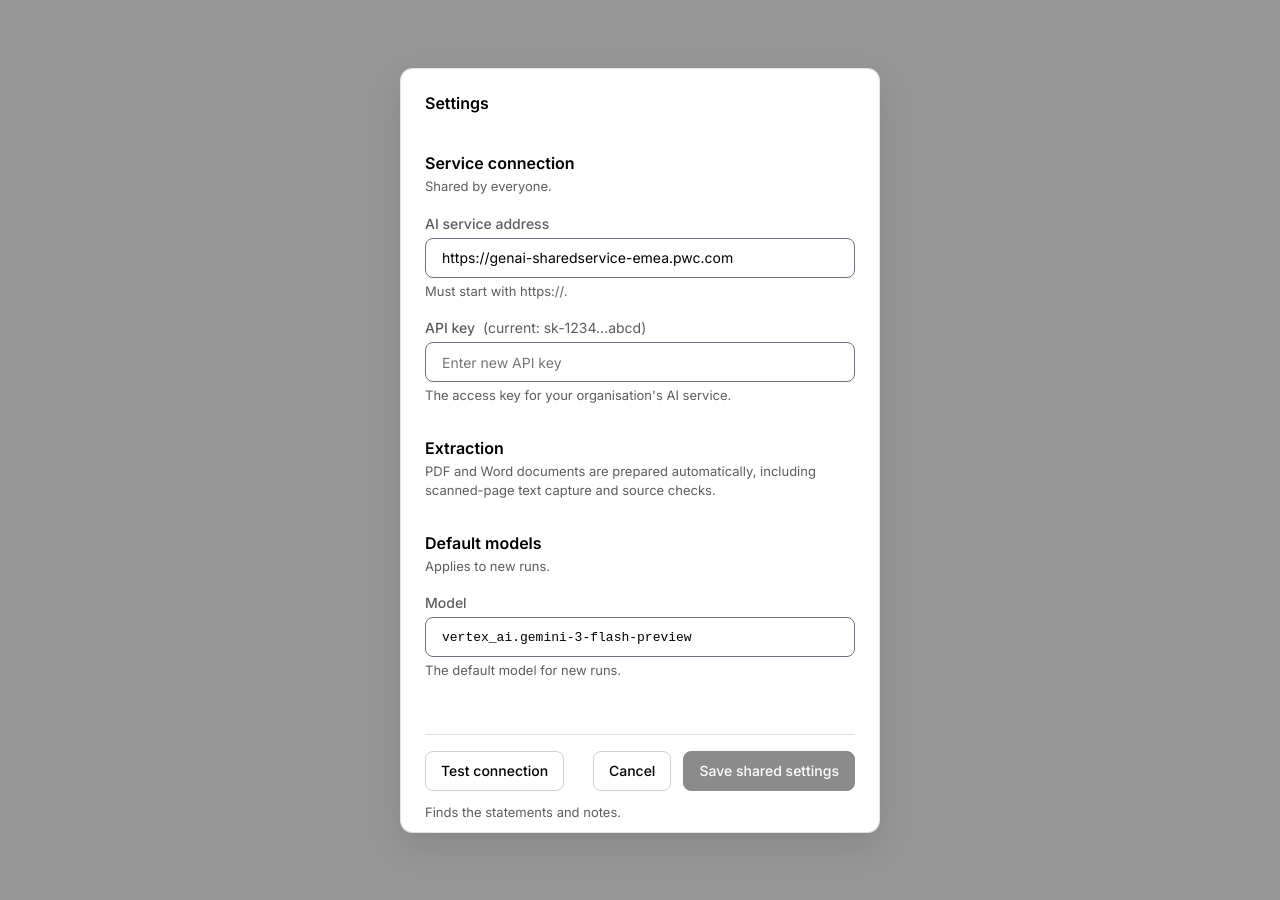
Test: SettingsModal — P3 enhancements › validates API key minimum length (8 chars) on blur
In the password field with placeholder "Enter new API key": (640, 362) [425, 342, 855, 382], type "short"
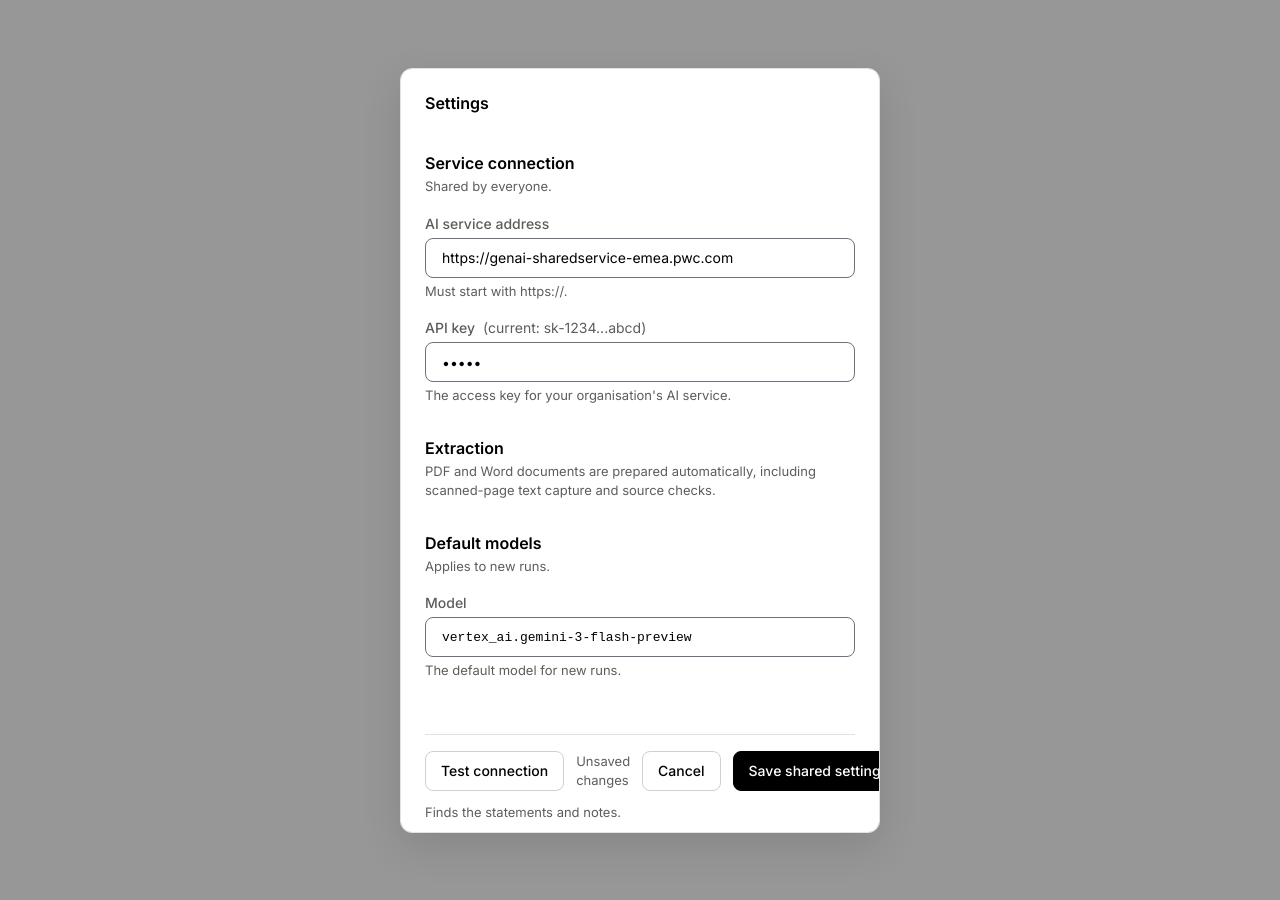
Leave the password field with placeholder "Enter new API key", box [425, 342, 855, 382]
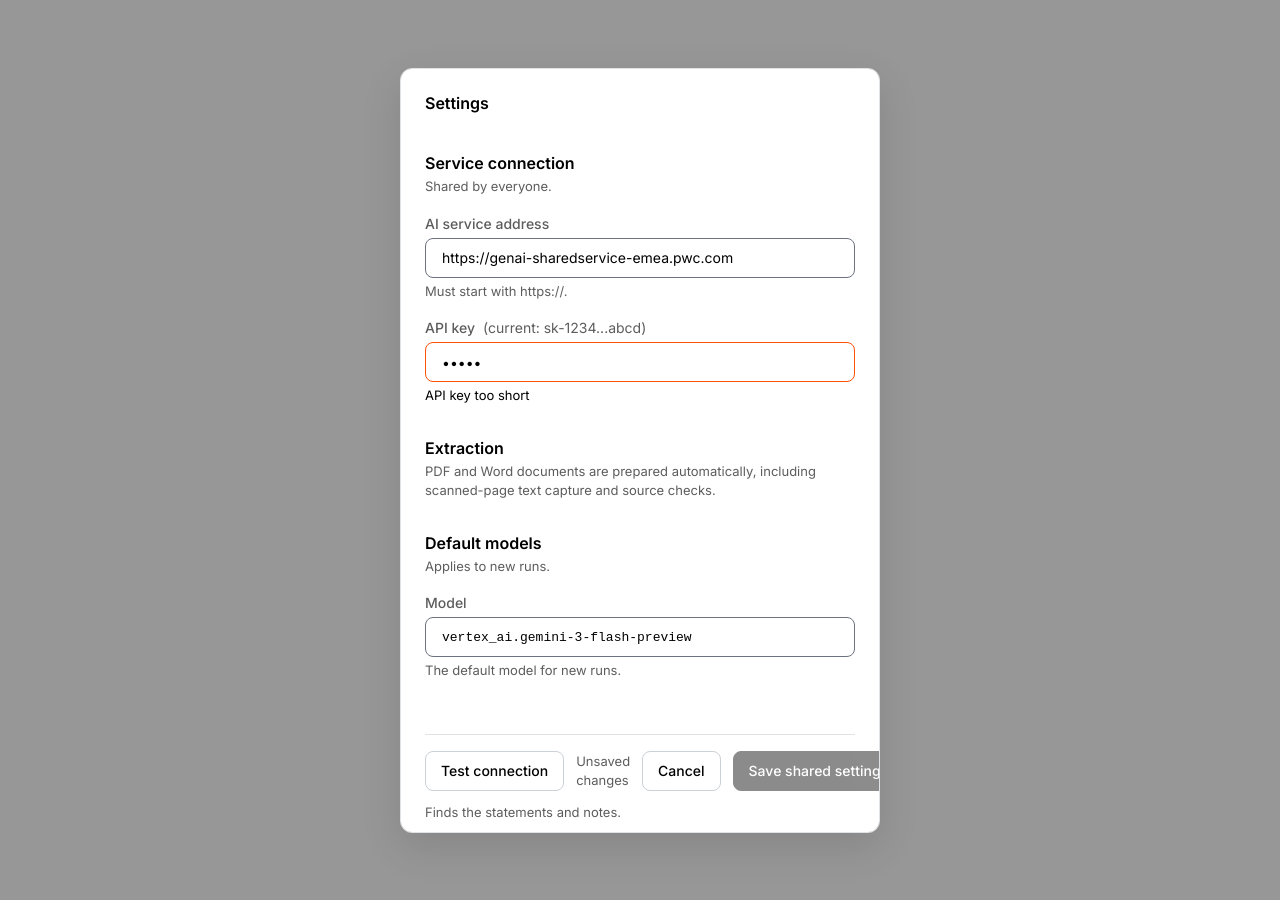
Expected: the text "API key too short" is shown, [425, 387, 530, 403]
